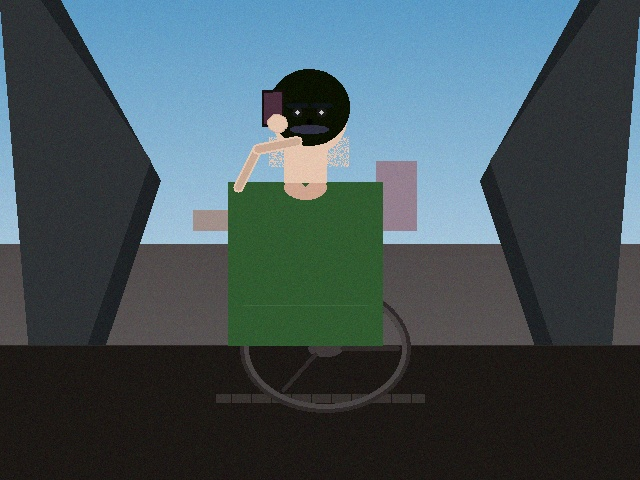phone_usage: (254, 82, 291, 134)
